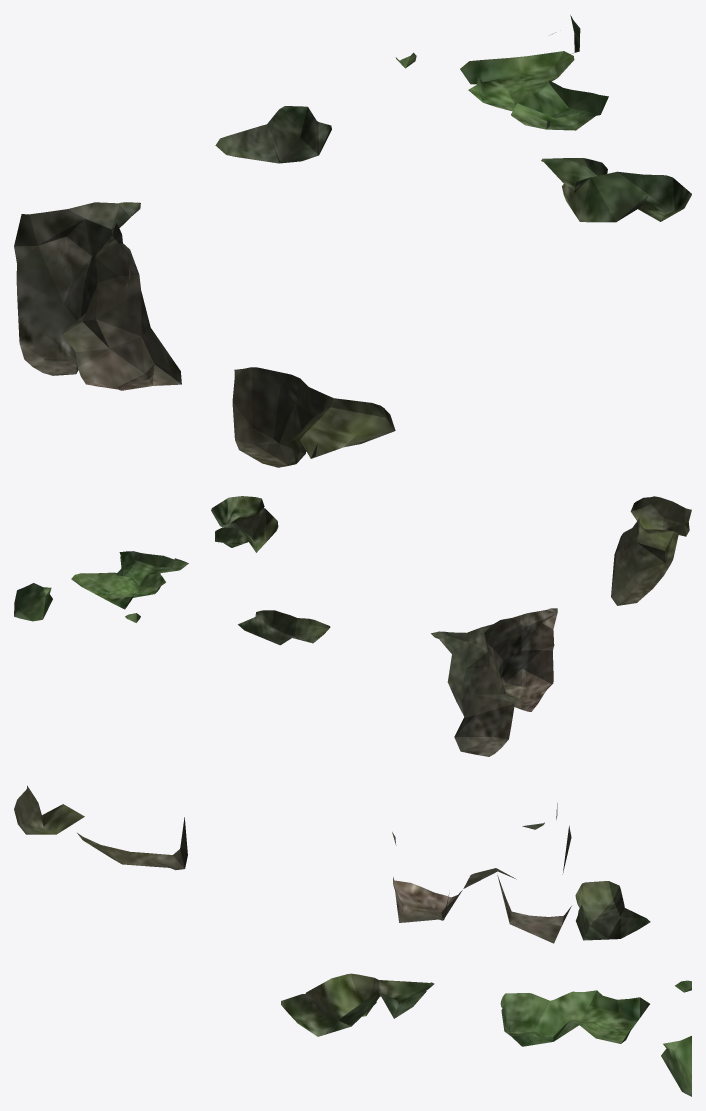
The picture shows the model from 3 angles, top to bottom: view 1: azimuth 30°, elevation 25°; view 2: azimuth 150°, elevation 25°; view 3: azimuth 270°, elevation 25°; orthographic projection. The views are drawn at different scales.
Size of the model in its own units: 9.47 by 2.21 by 9.83.
Materials: 1 (1 with a texture image).
